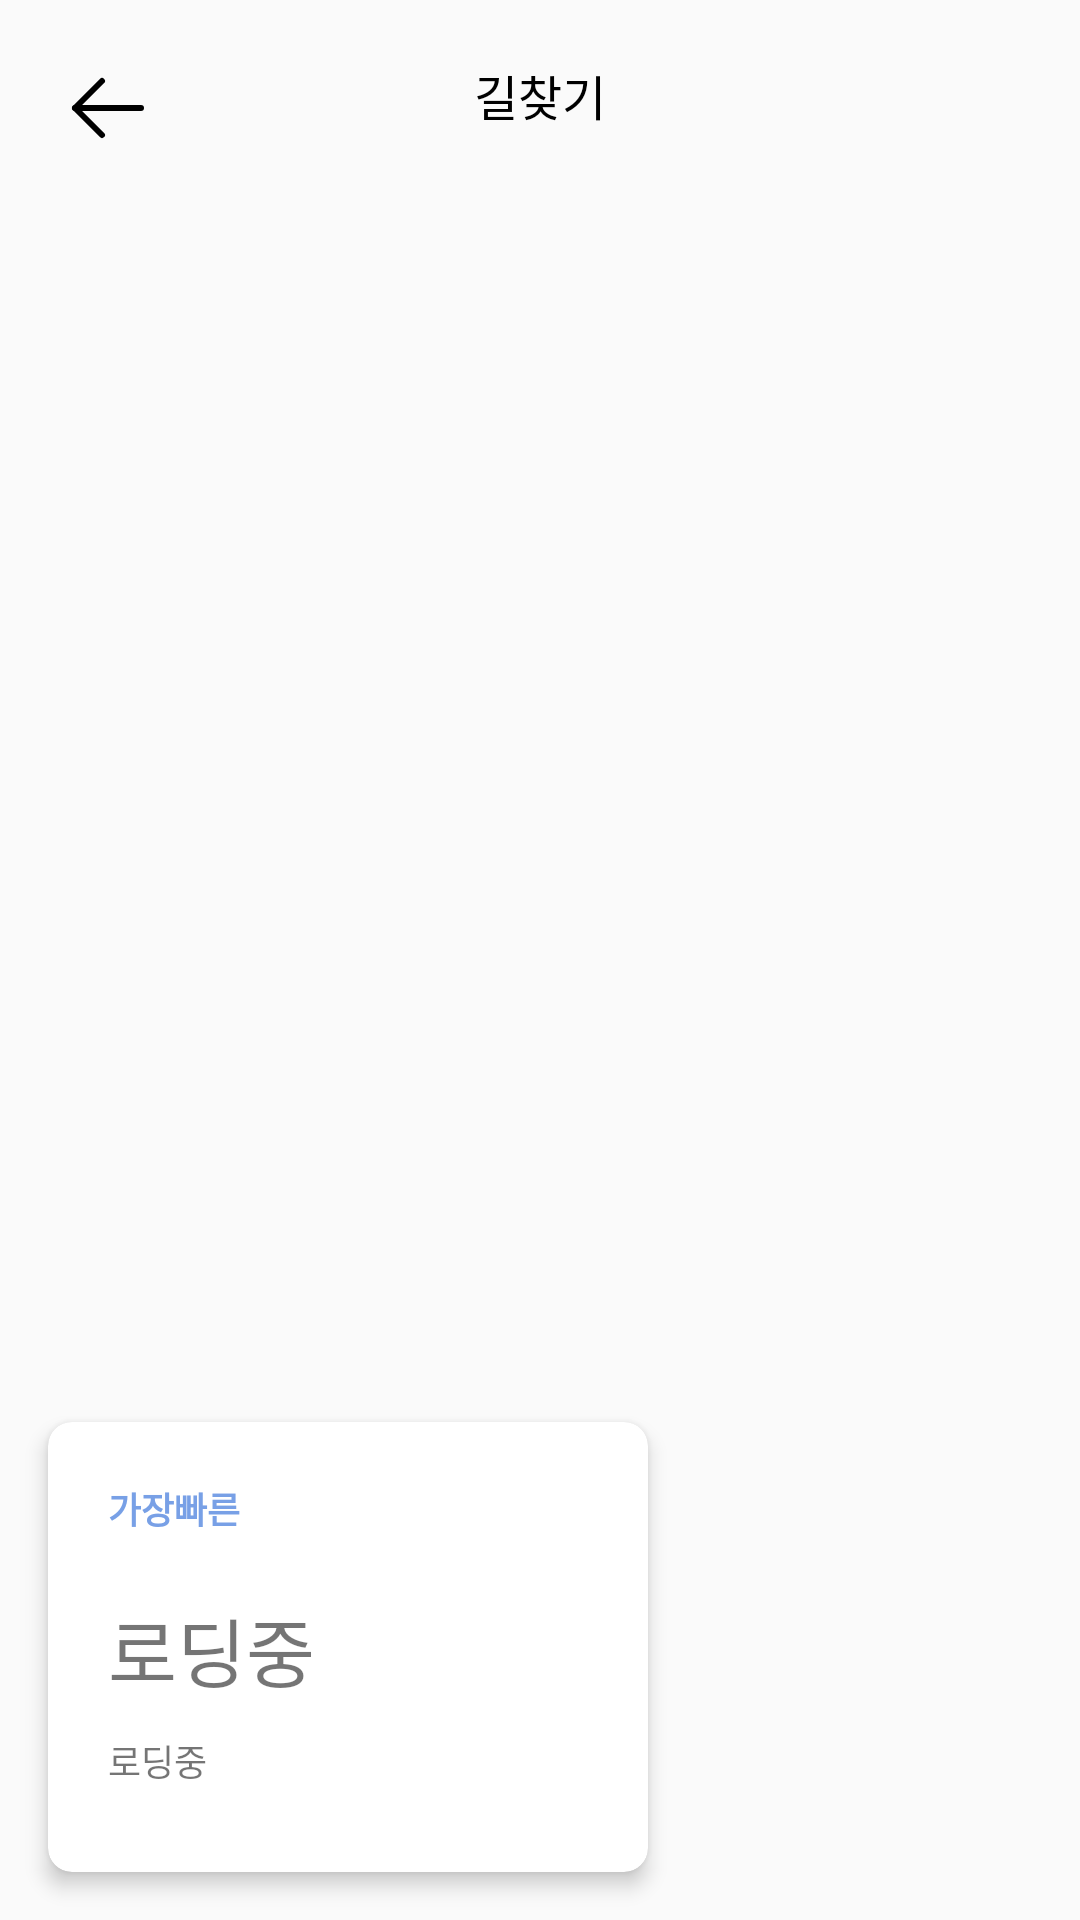

Icons on this 1080x1920 Android screen, each with its box as (x1, y1, x2, y2):
backarrow: (72, 77, 144, 138)
